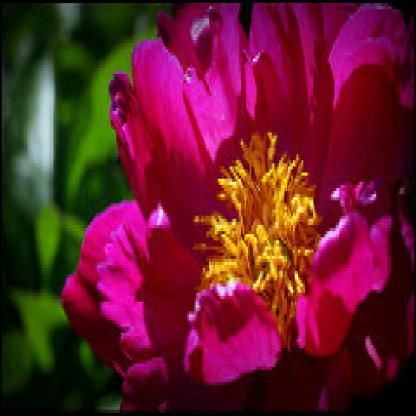Rose-Mawar: (57, 4, 416, 411)
